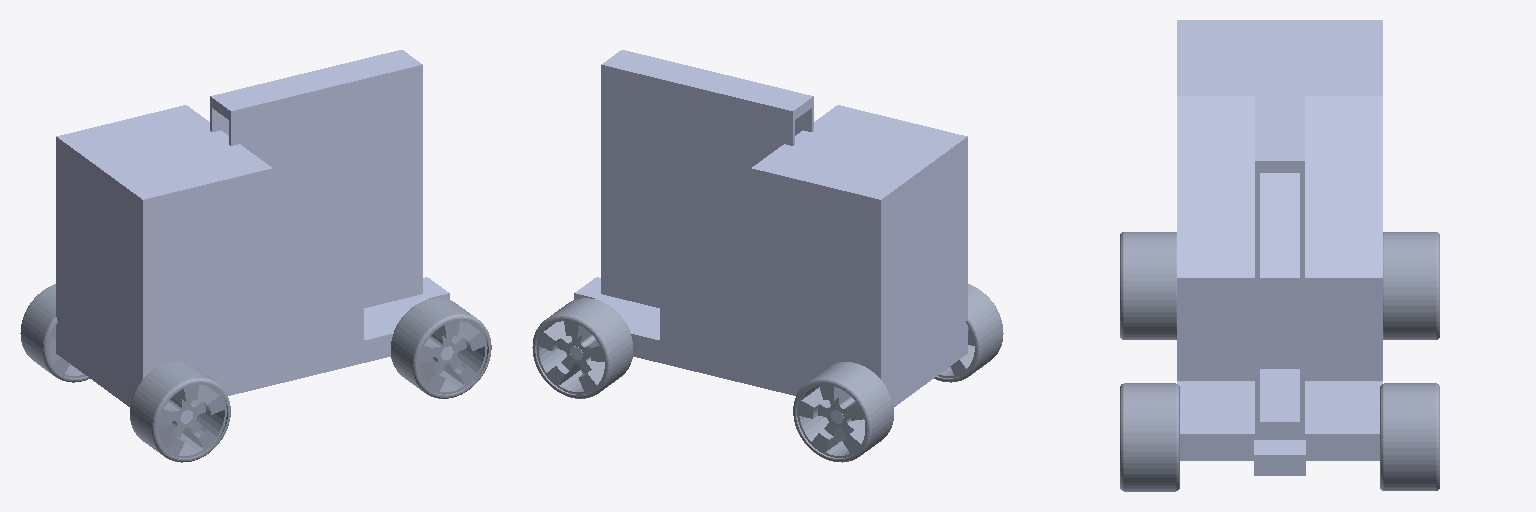
URDF robot description (robot):
<?xml version="1.0" encoding="utf-8"?>
<robot xmlns:xacro="http://www.ros.org/wiki/xacro">
    <!-- This URDF is a combination of the design from URDF 1 with the style of URDF 2 -->

    <!-- Link definitions -->
    <link name="base_link">
        <inertial>
            <origin xyz="-0.13844 2.6666E-17 0.28804" rpy="0 0 0"/>
            <mass value="20"/>
            <inertia ixx="10.204" ixy="8.5764E-16" ixz="1.8552" iyy="16.796" iyz="9.2941E-17" izz="13.278"/>
        </inertial>
        <visual>
            <origin xyz="0 0 0" rpy="0 0 0"/>
            <geometry>
                <mesh filename="package://robot_final_urdf/meshes/base_link.STL"/>
            </geometry>
            <material name="">
                <color rgba="0.79216 0.81961 0.93333 1"/>
            </material>
        </visual>
        <collision>
            <origin xyz="0 0 0" rpy="0 0 0"/>
            <geometry>
                <mesh filename="package://robot_final_urdf/meshes/base_link.STL"/>
            </geometry>
        </collision>
    </link>

    <!-- Front right wheel -->
    <link name="front_right_wheel">
        <inertial>
            <origin xyz="0.38868 -0.28781 0.02" rpy="0 0 0"/>
            <mass value="3.326"/>
            <inertia ixx="0.018692" ixy="-2.966E-19" ixz="3.7058E-19" iyy="0.029217" iyz="-5.6326E-19" izz="0.018692"/>
        </inertial>
        <visual>
            <origin xyz="0 0 0" rpy="0 0 0"/>
            <geometry>
                <mesh filename="package://robot_final_urdf/meshes/front_right_wheel.STL"/>
            </geometry>
            <material name="">
                <color rgba="0.66667 0.69804 0.76863 1"/>
            </material>
        </visual>
        <collision>
            <origin xyz="0 0 0" rpy="0 0 0"/>
            <geometry>
                <mesh filename="package://robot_final_urdf/meshes/front_right_wheel.STL"/>
            </geometry>
        </collision>
    </link>
    <joint name="front_right_joint" type="continuous">
        <origin xyz="0 0 0" rpy="0 0 0"/>
        <parent link="base_link"/>
        <child link="front_right_wheel"/>
        <axis xyz="0 -1 0"/>
    </joint>

    <!-- Front left wheel -->
    <link name="front_left_wheel">
        <inertial>
            <origin xyz="0.38868 0.28781 0.02" rpy="0 0 0"/>
            <mass value="3.326"/>
            <inertia ixx="0.018692" ixy="-2.2714E-19" ixz="-8.0733E-19" iyy="0.029217" iyz="4.1009E-19" izz="0.018692"/>
        </inertial>
        <visual>
            <origin xyz="0 0 0" rpy="0 0 0"/>
            <geometry>
                <mesh filename="package://robot_final_urdf/meshes/front_left_wheel.STL"/>
            </geometry>
            <material name="">
                <color rgba="0.66667 0.69804 0.76863 1"/>
            </material>
        </visual>
        <collision>
            <origin xyz="0 0 0" rpy="0 0 0"/>
            <geometry>
                <mesh filename="package://robot_final_urdf/meshes/front_left_wheel.STL"/>
            </geometry>
        </collision>
    </link>
    <joint name="front_left_joint" type="continuous">
        <origin xyz="0 0 0" rpy="0 0 0"/>
        <parent link="base_link"/>
        <child link="front_left_wheel"/>
        <axis xyz="0 1 0"/>
    </joint>

    <!-- Back left wheel -->
    <link name="back_left_wheel">
        <inertial>
            <origin xyz="-0.41032 0.28781 0.02" rpy="0 0 0"/>
            <mass value="3.326"/>
            <inertia ixx="0.018692" ixy="-1.66E-18" ixz="9.7009E-19" iyy="0.029217" iyz="4.7521E-19" izz="0.018692"/>
        </inertial>
        <visual>
            <origin xyz="0 0 0" rpy="0 0 0"/>
            <geometry>
                <mesh filename="package://robot_final_urdf/meshes/back_left_wheel.STL"/>
            </geometry>
            <material name="">
                <color rgba="0.66667 0.69804 0.76863 1"/>
            </material>
        </visual>
        <collision>
            <origin xyz="0 0 0" rpy="0 0 0"/>
            <geometry>
                <mesh filename="package://robot_final_urdf/meshes/back_left_wheel.STL"/>
            </geometry>
        </collision>
    </link>
    <joint name="back_left_joint" type="continuous">
        <origin xyz="0 0 0" rpy="0 0 0"/>
        <parent link="base_link"/>
        <child link="back_left_wheel"/>
        <axis xyz="0 1 0"/>
        <limit effort="30" velocity="30"/>
    </joint>

    <!-- Back right wheel -->
    <link name="back_right_wheel">
        <inertial>
            <origin xyz="-0.41032 -0.28781 0.02" rpy="0 0 0"/>
            <mass value="3.326"/>
            <inertia ixx="0.018692" ixy="-5.4797E-19" ixz="1.3996E-18" iyy="0.029217" iyz="-3.4435E-20" izz="0.018692"/>
        </inertial>
        <visual>
            <origin xyz="0 0 0" rpy="0 0 0"/>
            <geometry>
                <mesh filename="package://robot_final_urdf/meshes/back_right_wheel.STL"/>
            </geometry>
            <material name="">
                <color rgba="0.66667 0.69804 0.76863 1"/>
            </material>
        </visual>
        <collision>
            <origin xyz="0 0 0" rpy="0 0 0"/>
            <geometry>
                <mesh filename="package://robot_final_urdf/meshes/back_right_wheel.STL"/>
            </geometry>
        </collision>
    </link>
    <joint name="back_right_joint" type="continuous">
        <origin xyz="0 0 0" rpy="0 0 0"/>
        <parent link="base_link"/>
        <child link="back_right_wheel"/>
        <axis xyz="0 -1 0"/>
    </joint>
</robot>

--- Render facts (derived) ---
3 views of the same robot in one strip: view 1: azimuth 30°, elevation 25°; view 2: azimuth 150°, elevation 25°; view 3: azimuth 270°, elevation 25° (orthographic).
Robot: robot — 5 links, 4 joints (4 continuous); root link base_link; default pose: every joint at zero.
Links seen in each view (by area): view 1: base_link, front_right_wheel, back_right_wheel, back_left_wheel; view 2: base_link, front_left_wheel, back_left_wheel, back_right_wheel; view 3: base_link, front_right_wheel, front_left_wheel, back_left_wheel, back_right_wheel.
Link boxes in pixels (box(x1,y1,x2,y2)): base_link: box(56, 50, 453, 423); front_right_wheel: box(391, 298, 491, 398); back_right_wheel: box(130, 362, 230, 462); back_left_wheel: box(20, 284, 89, 382); base_link: box(570, 50, 967, 423); front_left_wheel: box(532, 298, 632, 398); back_left_wheel: box(793, 362, 893, 462); back_right_wheel: box(934, 284, 1003, 382); base_link: box(1177, 20, 1382, 475); front_right_wheel: box(1120, 383, 1179, 491); front_left_wheel: box(1380, 383, 1439, 490); back_left_wheel: box(1383, 232, 1439, 339); back_right_wheel: box(1120, 232, 1176, 339).
Bounding box of the posed robot: 1.08 × 0.7135 × 0.8386 m (x, y, z).
5 mesh visuals loaded from 5 distinct referenced files (5 binary STL).
